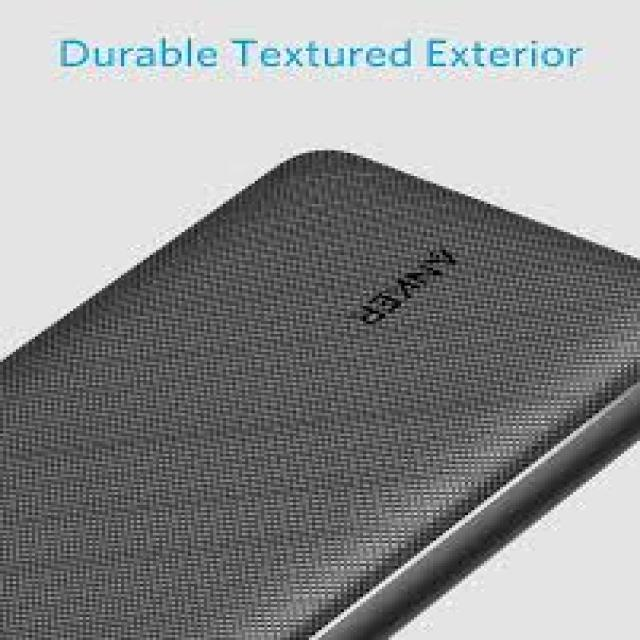power_bank: (0, 145, 640, 640)
